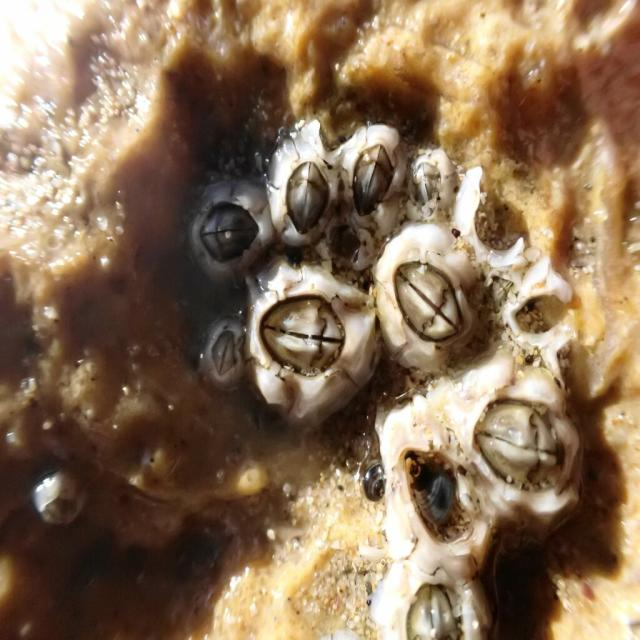barnacles: (368, 393, 488, 582), (452, 355, 590, 519), (244, 280, 384, 426), (378, 222, 488, 380), (367, 556, 511, 640), (261, 118, 344, 250), (339, 114, 408, 228), (187, 178, 268, 273), (192, 302, 250, 392)
